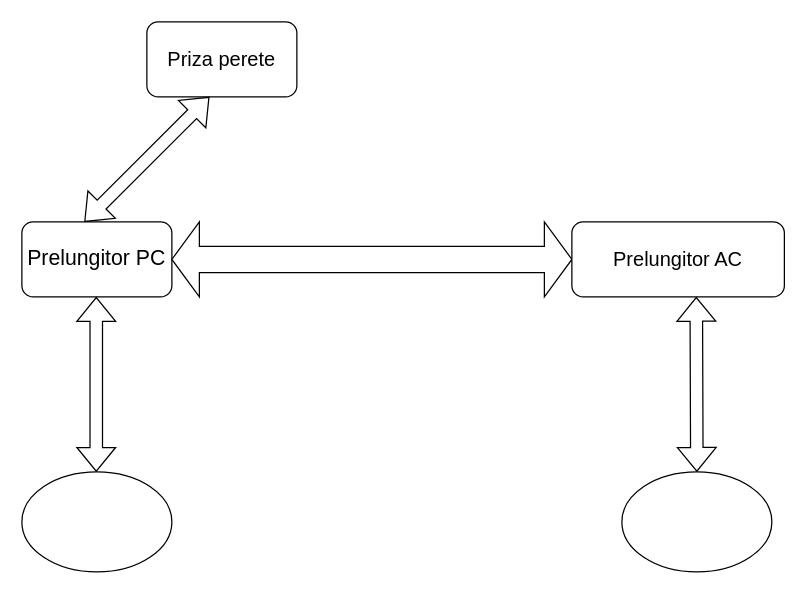
Image size: 806x594. Some labels were removed from this diagram. Here are the shapes that lost their labels. From the top down, the centre of each, then its label:
At point (96, 521): "PC".
At point (696, 521): "AC".
